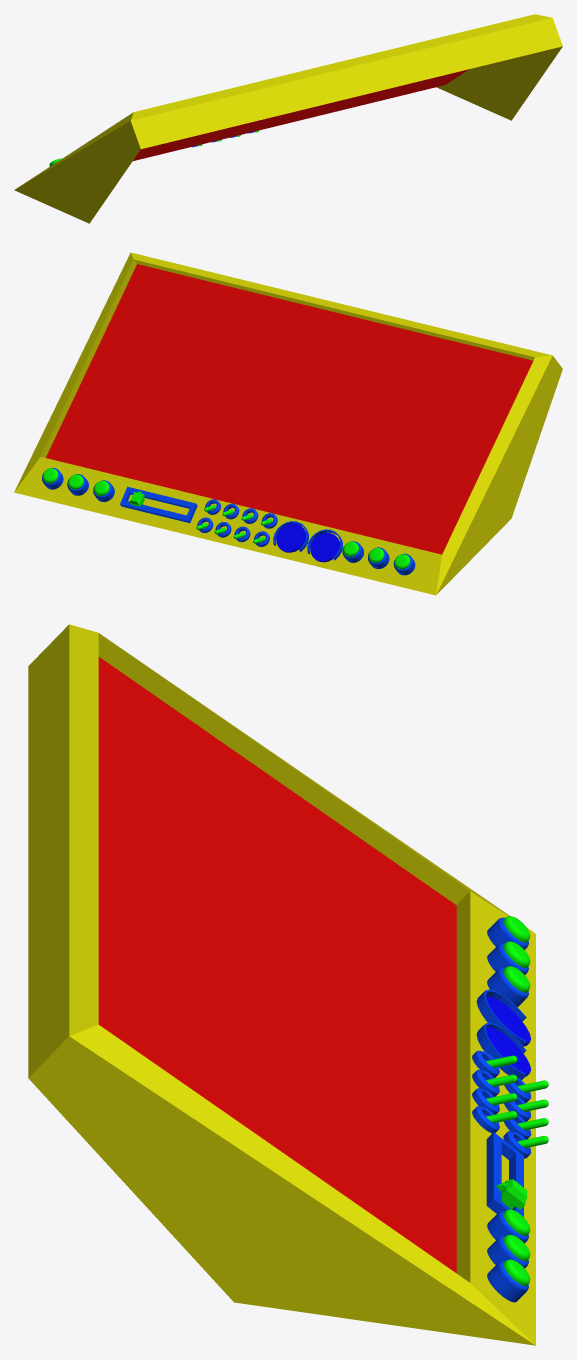
Rendered from SM_EcranPrincipal.fbx.
The picture shows the model from 3 angles, top to bottom: view 1: azimuth 30°, elevation 25°; view 2: azimuth 150°, elevation 25°; view 3: azimuth 270°, elevation 25°; orthographic projection. The views are drawn at different scales.
Parts seen in each view (by area): view 1: SM_Ecran_Principal; view 2: SM_Ecran_Principal; view 3: SM_Ecran_Principal.
Boxes of the visible parts, <box> form: SM_Ecran_Principal: <box>14,14,562,223</box>; SM_Ecran_Principal: <box>14,252,562,595</box>; SM_Ecran_Principal: <box>28,624,548,1345</box>.
Size of the model in its own units: 102 by 35.8 by 54.27.
